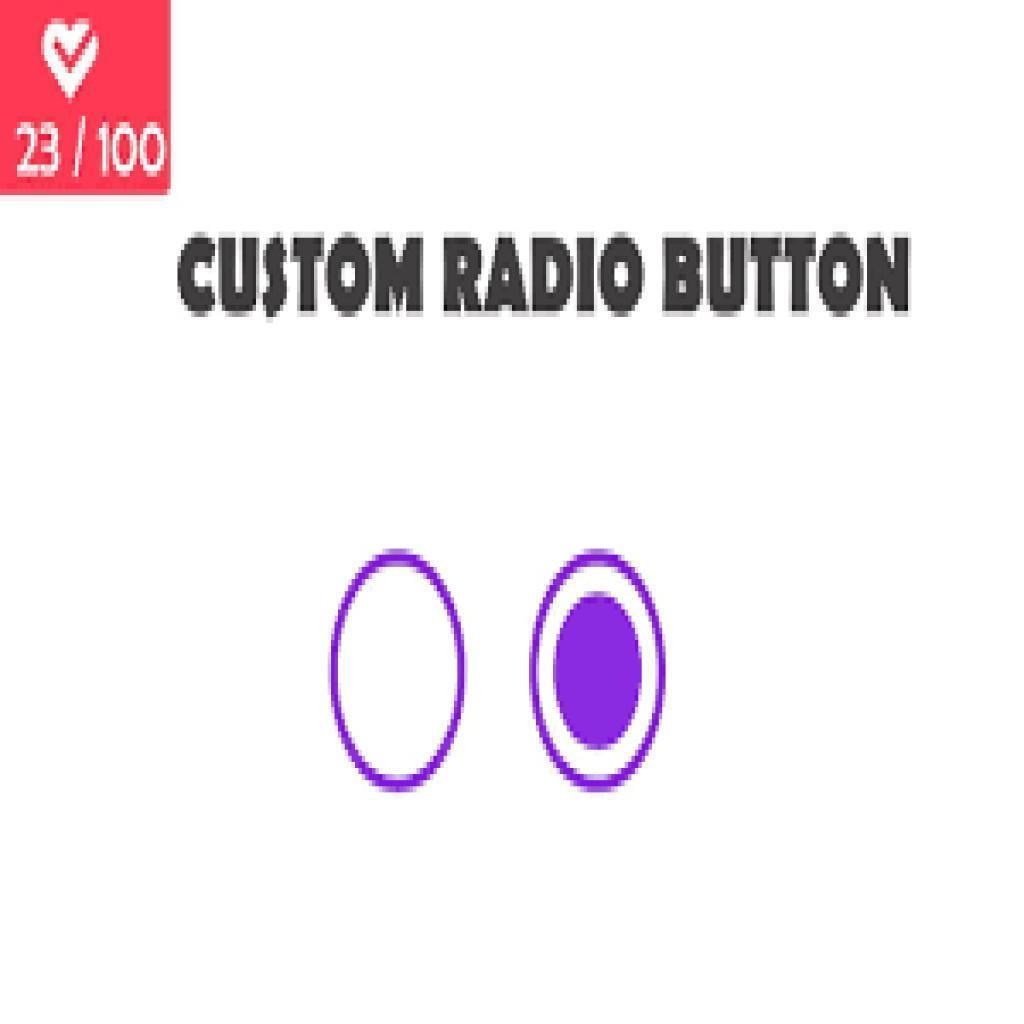label: (173, 233, 912, 320)
radio: (525, 545, 669, 794), (325, 547, 469, 794)
